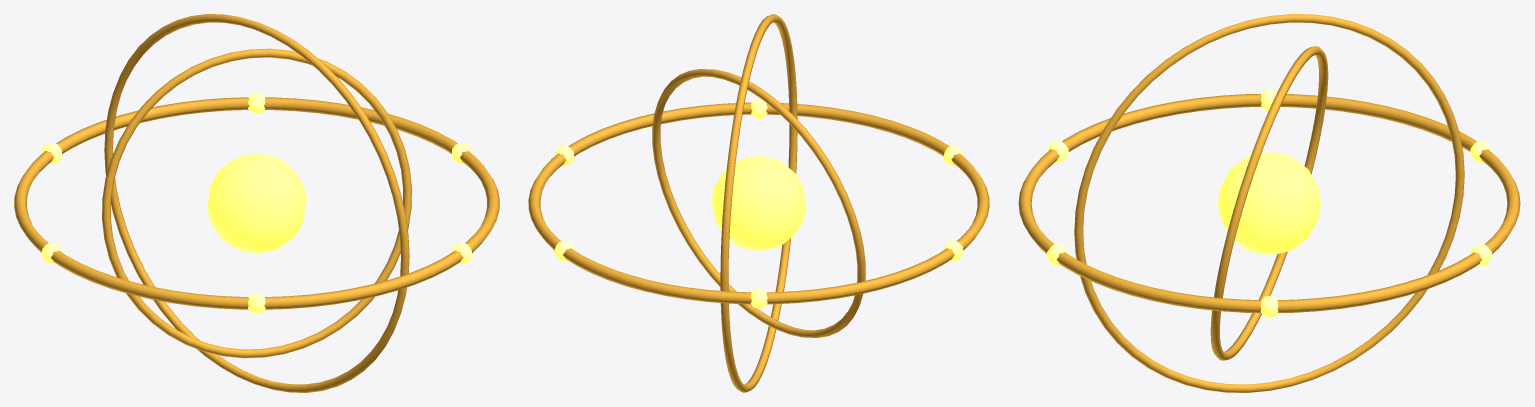
File: god_orrery.glb
The picture shows the model from 3 angles, left to right: view 1: azimuth 30°, elevation 25°; view 2: azimuth 150°, elevation 25°; view 3: azimuth 270°, elevation 25°; orthographic projection. The views are drawn at different scales.
Visible parts, largest first — view 1: orrery_gl_gold, orrery_gl_goldglow, orrery_gl_crystal_g; view 2: orrery_gl_gold, orrery_gl_goldglow, orrery_gl_crystal_g; view 3: orrery_gl_gold, orrery_gl_goldglow, orrery_gl_crystal_g.
Boxes of the visible parts, x1=… form: orrery_gl_gold: x1=14, y1=14, x2=499, y2=392; orrery_gl_goldglow: x1=207, y1=154, x2=306, y2=252; orrery_gl_crystal_g: x1=42, y1=93, x2=471, y2=313; orrery_gl_gold: x1=528, y1=14, x2=989, y2=392; orrery_gl_goldglow: x1=712, y1=156, x2=805, y2=250; orrery_gl_crystal_g: x1=555, y1=98, x2=962, y2=308; orrery_gl_gold: x1=1018, y1=14, x2=1520, y2=392; orrery_gl_goldglow: x1=1218, y1=152, x2=1320, y2=254; orrery_gl_crystal_g: x1=1047, y1=89, x2=1491, y2=317.
Size of the model in its own units: 5.43 by 4.4 by 5.34.
